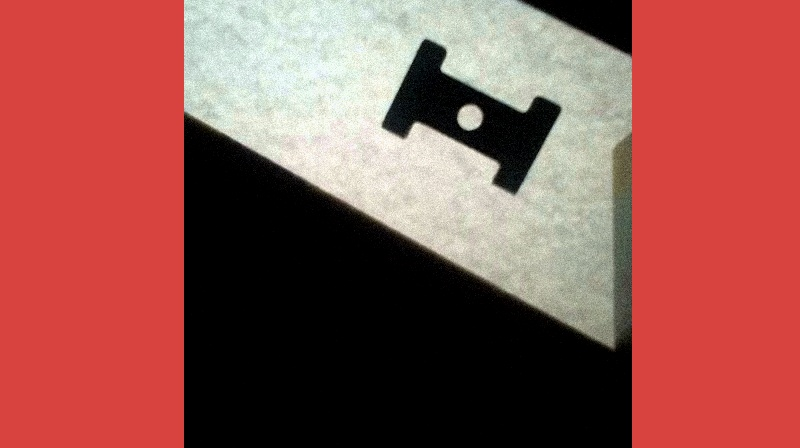O002: (377, 34, 564, 197)
